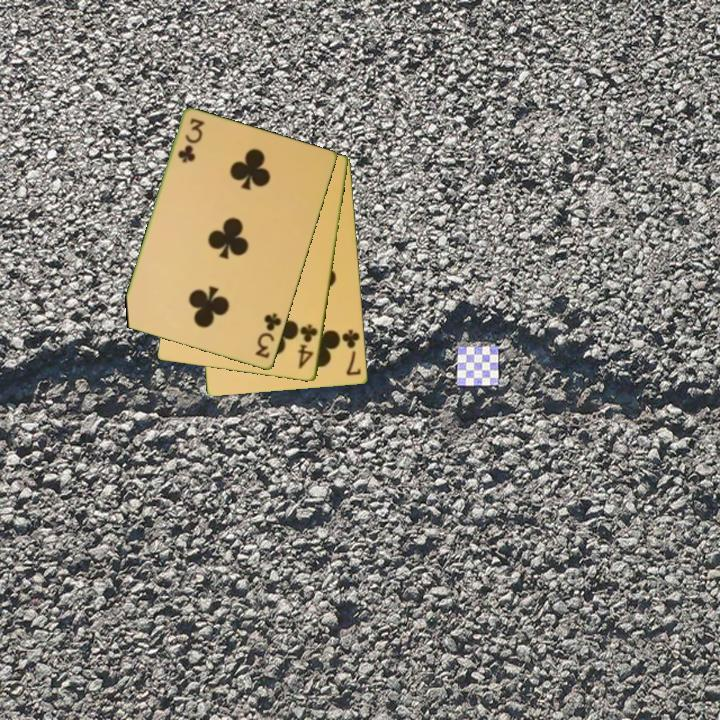3c: (252, 310, 285, 361), (174, 115, 206, 166)
4c: (295, 321, 321, 372)
7c: (339, 327, 364, 379)
